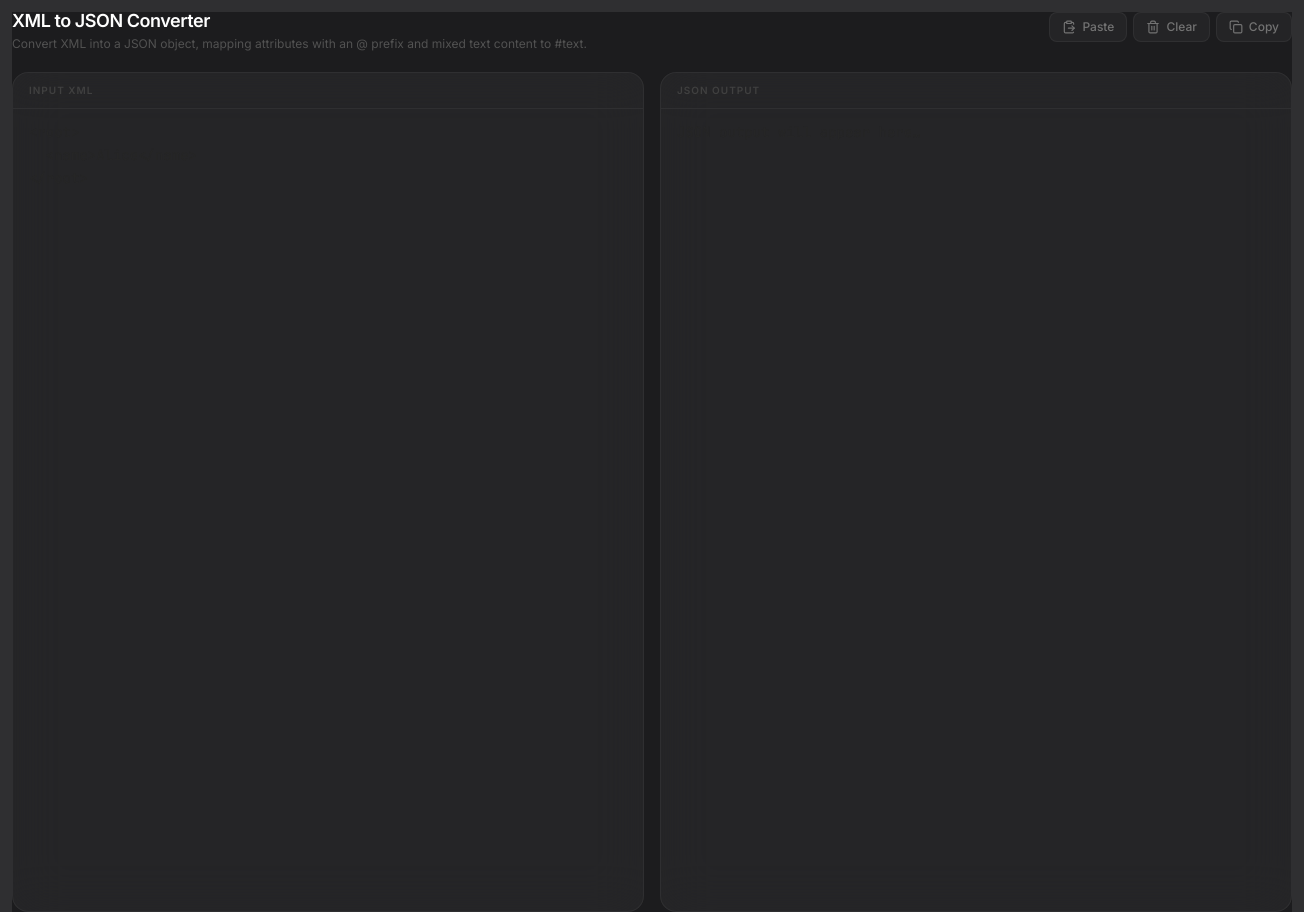
Scenario: XmlToJsonTool › pastes text when Paste button is clicked
This screenshot has width=1304, height=912.
Step 1. Click the button titled "Paste from clipboard" → (1088, 27), box [1049,12,1127,42]
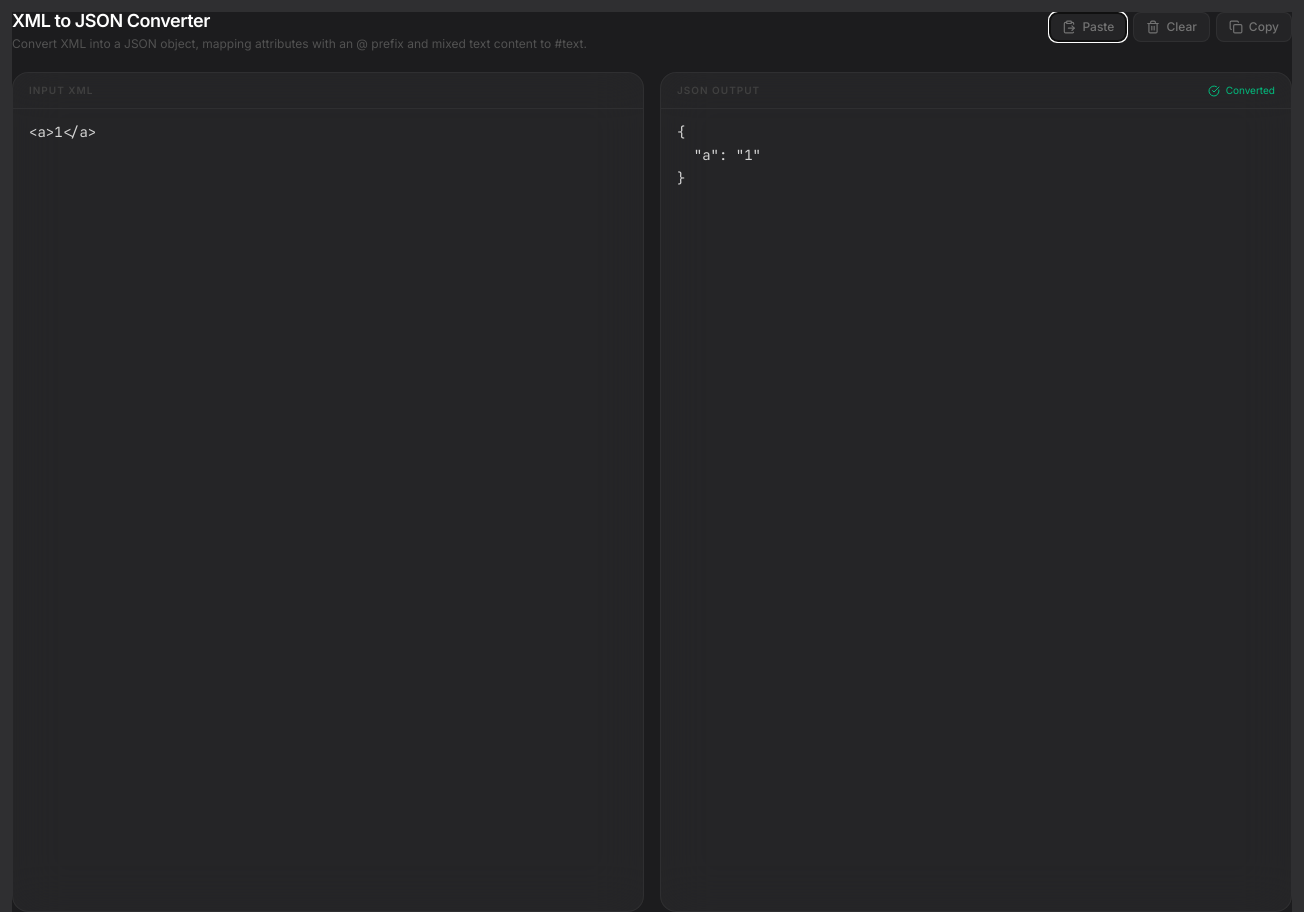
Expected: the text box with placeholder "<root> <name>Alice</name> </root>" holds "<a>1</a>", [13,109,643,911]
